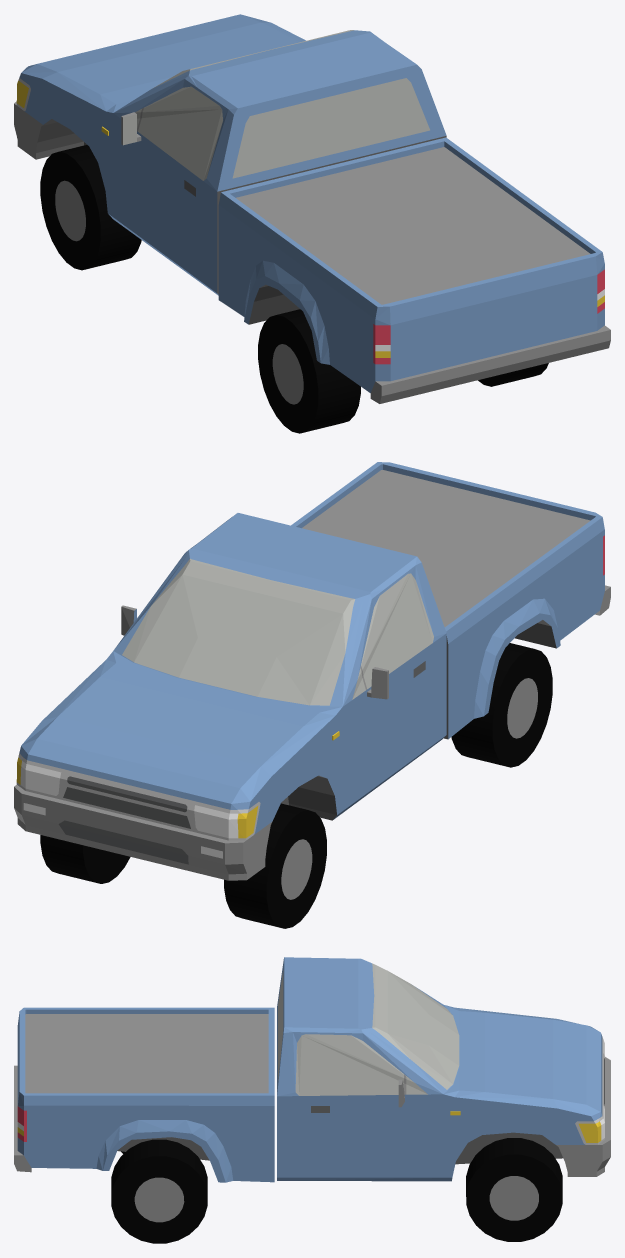
The picture shows the model from 3 angles, top to bottom: view 1: azimuth 30°, elevation 25°; view 2: azimuth 150°, elevation 25°; view 3: azimuth 270°, elevation 25°; orthographic projection. The views are drawn at different scales.
Visible parts, largest first — view 1: Mesh1 Model, Mesh5 Model, Mesh4 Model, Mesh2 Model; view 2: Mesh1 Model, Mesh4 Model, Mesh5 Model, Mesh3 Model; view 3: Mesh1 Model, Mesh2 Model, Mesh3 Model.
Part boxes in pixels (<box>): Mesh1 Model: <box>14,14,610,403</box>; Mesh5 Model: <box>258,309,360,433</box>; Mesh4 Model: <box>40,145,141,270</box>; Mesh2 Model: <box>478,363,548,386</box>; Mesh1 Model: <box>14,462,610,880</box>; Mesh4 Model: <box>224,803,326,928</box>; Mesh5 Model: <box>451,643,552,767</box>; Mesh3 Model: <box>40,835,130,883</box>; Mesh1 Model: <box>14,957,610,1182</box>; Mesh2 Model: <box>111,1139,207,1243</box>; Mesh3 Model: <box>466,1138,562,1241</box>.
Bounding box in the file's own units: 134 × 124 × 326.
